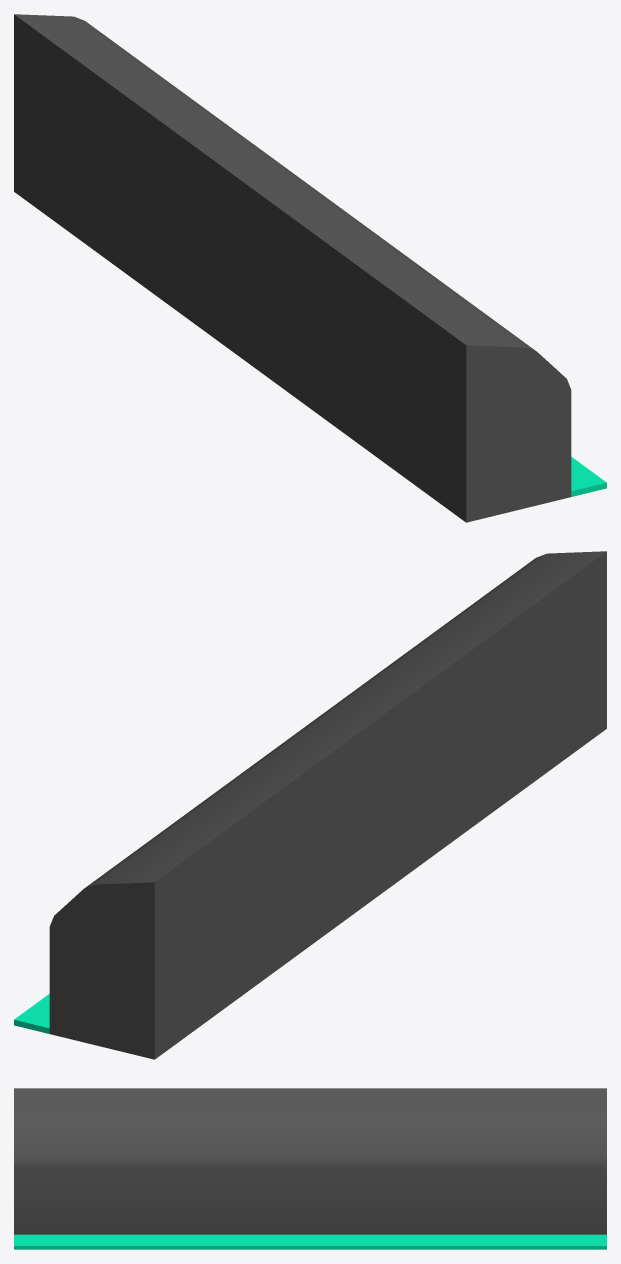
Rendered from CorridorWallInPillarDown_01.fbx.
3 views of the same model, one above another, from view 1: azimuth 30°, elevation 25°; view 2: azimuth 150°, elevation 25°; view 3: azimuth 270°, elevation 25° (orthographic). The views are drawn at different scales.
Visible parts, largest first — view 1: Box135, CorridorWallInPillarDown_01; view 2: Box135, CorridorWallInPillarDown_01; view 3: Box135, CorridorWallInPillarDown_01.
Boxes of the visible parts, bbox=[...] form: Box135: bbox=[14, 14, 571, 522]; CorridorWallInPillarDown_01: bbox=[571, 457, 606, 496]; Box135: bbox=[49, 551, 606, 1059]; CorridorWallInPillarDown_01: bbox=[14, 994, 49, 1033]; Box135: bbox=[14, 1088, 606, 1234]; CorridorWallInPillarDown_01: bbox=[14, 1234, 606, 1249].
Size of the model in its own units: 32.88 by 183 by 39.61.
